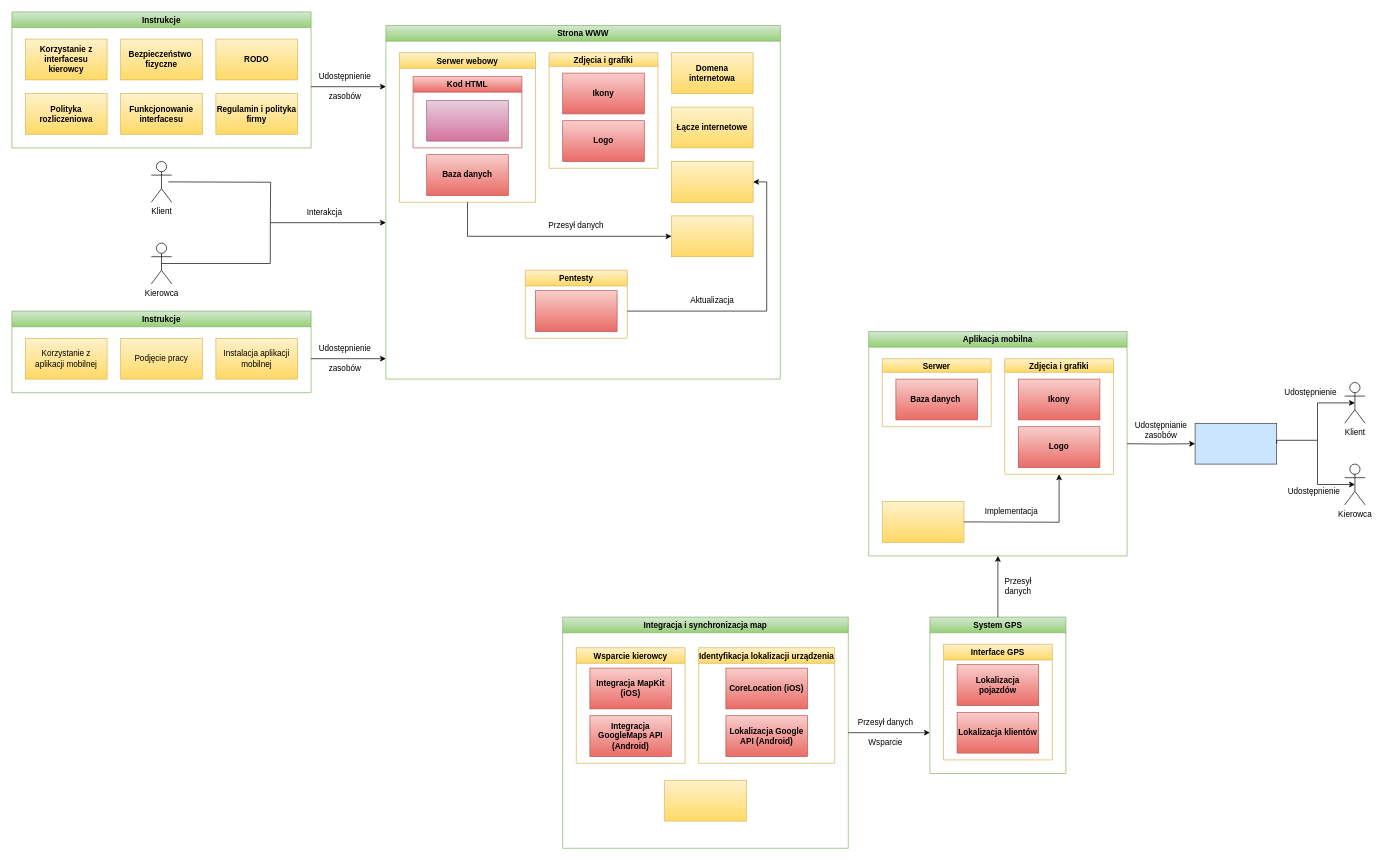
This 1383x860 diagram has some shape labels left out. Here are the shapes that lost their labels. From the top down, the centre of each, then its label:
At point 467,120: "Projekt graficzny".
At point 712,181: "Wymagania bezpieczeństwa".
At point 712,236: "Backup".
At point 576,311: "Raporty".
At point 1235,443: "Sklep mobilny".
At point 923,521: "Oprogramowanie".
At point 705,800: "GoogleMaps (iOS i Android)".
